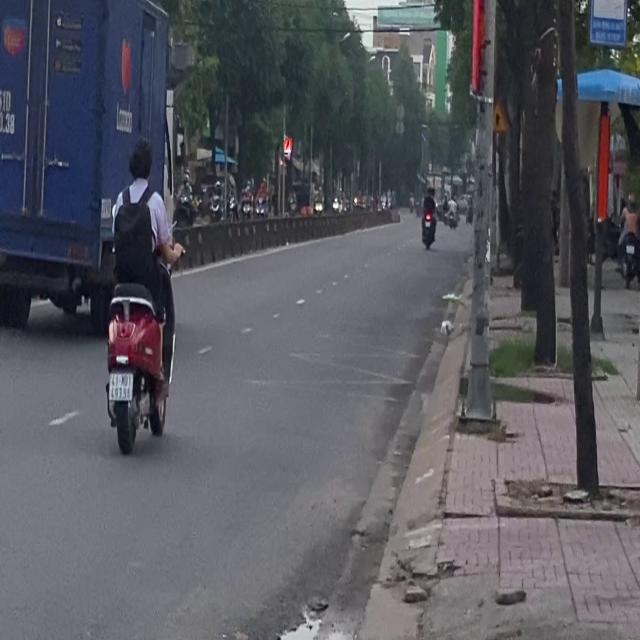licenseplate: (100, 136, 178, 453)
motorcyclist: (126, 137, 153, 181)
nohelmet: (109, 372, 132, 400)
